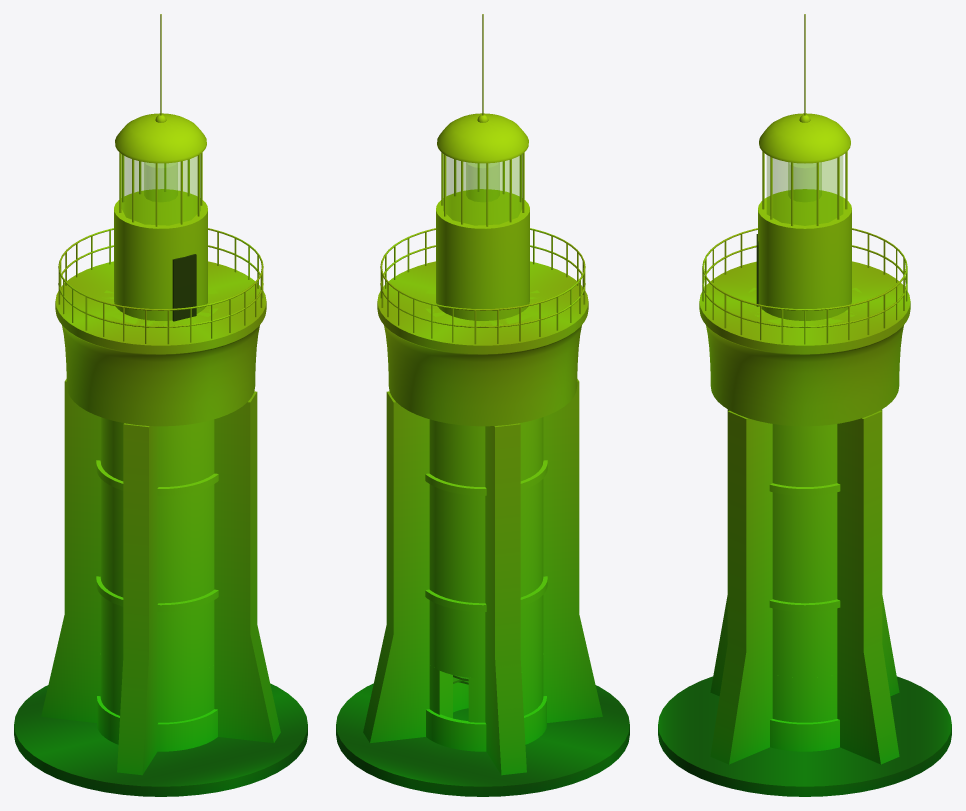
Rendered from hai_dang_vung_tau.glb.
3 views of the same model, side by side, from view 1: azimuth 30°, elevation 25°; view 2: azimuth 150°, elevation 25°; view 3: azimuth 270°, elevation 25° (orthographic).
Visible parts, largest first — view 1: hai_dang_vung_tau; view 2: hai_dang_vung_tau; view 3: hai_dang_vung_tau.
Part boxes in pixels (x1,y1,x2,y2): hai_dang_vung_tau: [14, 14, 307, 796]; hai_dang_vung_tau: [336, 14, 629, 796]; hai_dang_vung_tau: [658, 14, 951, 796].
Size of what is drawn, in the model's own units: 7.8 by 21.1 by 7.8.
